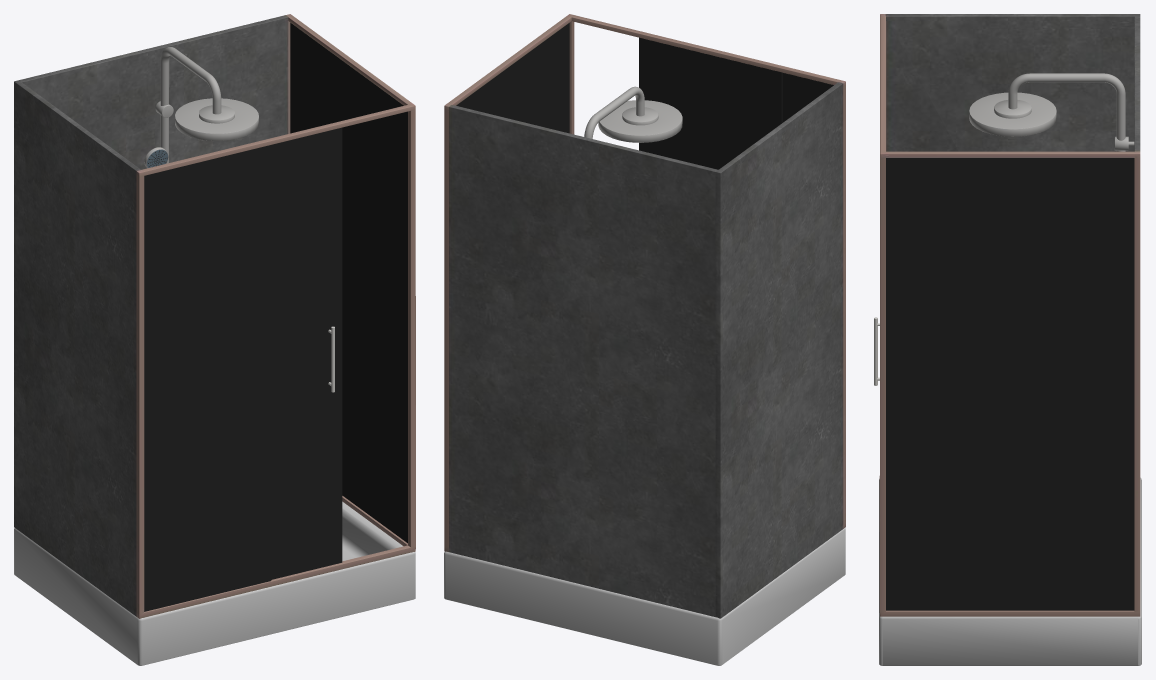
The model's file is shower-cabin.glb.
3 views of the same model, side by side, from view 1: azimuth 30°, elevation 25°; view 2: azimuth 150°, elevation 25°; view 3: azimuth 270°, elevation 25° (orthographic). The views are drawn at different scales.
Parts seen in each view (by area): view 1: Object_3, Object_6, Object_2, Object_4; view 2: Object_6, Object_3, Object_2, Object_4; view 3: Object_3, Object_6, Object_2, Object_4.
Part boxes in pixels (bbox=[...]): Object_3: bbox=[144, 23, 407, 611]; Object_6: bbox=[14, 14, 415, 618]; Object_2: bbox=[14, 501, 415, 665]; Object_4: bbox=[144, 47, 258, 168]; Object_6: bbox=[444, 14, 845, 618]; Object_3: bbox=[456, 23, 833, 169]; Object_2: bbox=[444, 528, 845, 665]; Object_4: bbox=[584, 86, 682, 142]; Object_3: bbox=[886, 158, 1134, 610]; Object_6: bbox=[874, 14, 1140, 616]; Object_2: bbox=[879, 477, 1141, 665]; Object_4: bbox=[969, 73, 1134, 151].
Bounding box in the file's own units: 1.3 × 2.26 × 1.05.
4 materials, 4 textured.
